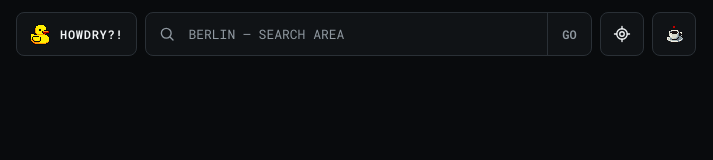
Test: LocationSearch › shows geolocation failures without a typed query
What coordinates should you click on to do the following:
click the button named "Use current location"
I would click on:
 (622, 34)
Its box is [600, 12, 644, 56].
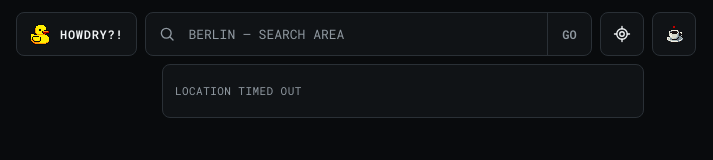
Now the text "LOCATION TIMED OUT" is shown, box [175, 83, 302, 98]
